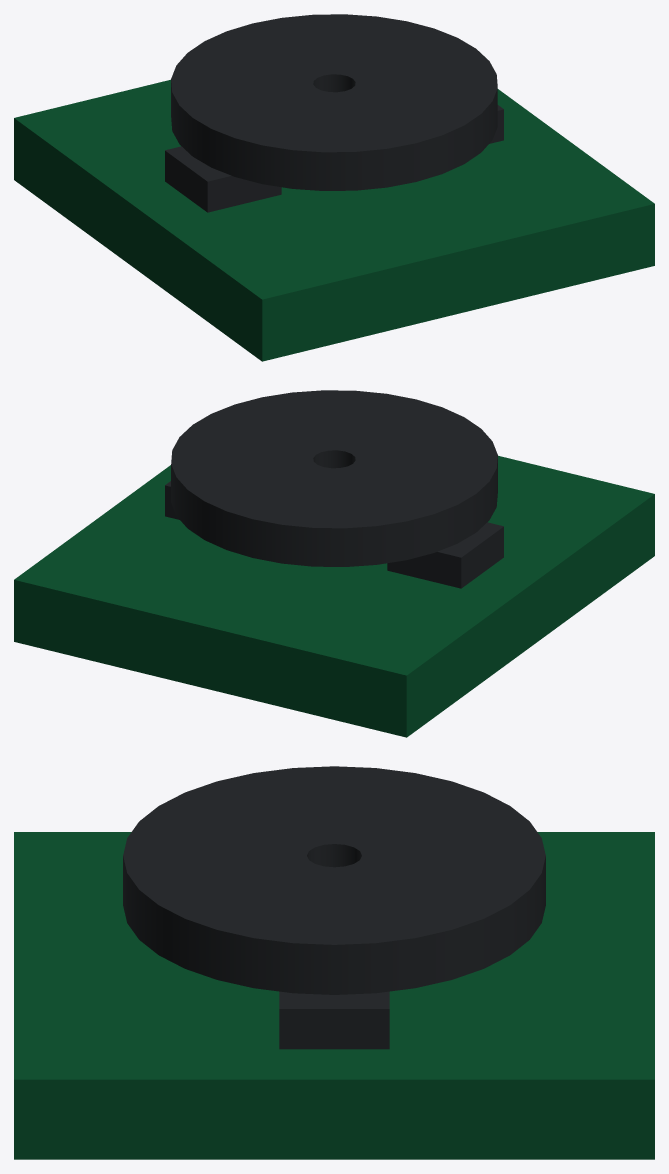
File: encoder_kit_magnetic_12cpr.glb
3 views of the same model, one above another, from view 1: azimuth 30°, elevation 25°; view 2: azimuth 150°, elevation 25°; view 3: azimuth 270°, elevation 25° (orthographic). The views are drawn at different scales.
Parts seen in each view (by area): view 1: part_encoder_kit_magnetic_12cpr__pcb, part_encoder_kit_magnetic_12cpr__black_polymer; view 2: part_encoder_kit_magnetic_12cpr__pcb, part_encoder_kit_magnetic_12cpr__black_polymer; view 3: part_encoder_kit_magnetic_12cpr__pcb, part_encoder_kit_magnetic_12cpr__black_polymer.
Part boxes in pixels (x1,y1,x2,y2): part_encoder_kit_magnetic_12cpr__pcb: [14, 79, 654, 361]; part_encoder_kit_magnetic_12cpr__black_polymer: [165, 14, 503, 212]; part_encoder_kit_magnetic_12cpr__pcb: [14, 455, 654, 737]; part_encoder_kit_magnetic_12cpr__black_polymer: [165, 390, 503, 588]; part_encoder_kit_magnetic_12cpr__pcb: [14, 832, 654, 1159]; part_encoder_kit_magnetic_12cpr__black_polymer: [123, 766, 545, 1049].
Bounding box in the file's own units: 0.0106 × 0.0036 × 0.0116.
